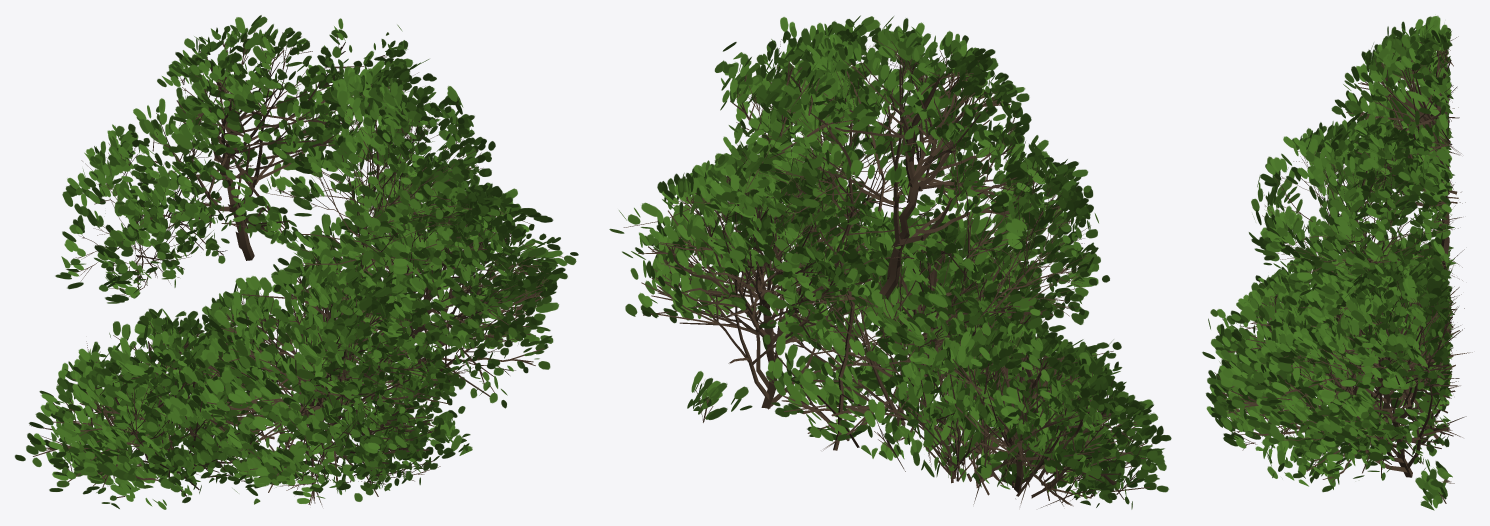
The picture shows the model from 3 angles, left to right: view 1: azimuth 30°, elevation 25°; view 2: azimuth 150°, elevation 25°; view 3: azimuth 270°, elevation 25°; orthographic projection. The views are drawn at different scales.
Parts seen in each view (by area): view 1: oak 01.001_trunk_Mat.001_0.248; view 2: oak 01.001_trunk_Mat.001_0.248; view 3: oak 01.001_trunk_Mat.001_0.248.
Part boxes in pixels (box(x1,y1,x2,y2)): oak 01.001_trunk_Mat.001_0.248: box(14, 15, 578, 509); oak 01.001_trunk_Mat.001_0.248: box(609, 15, 1171, 509); oak 01.001_trunk_Mat.001_0.248: box(1202, 15, 1472, 510).
Bounding box in the file's own units: 6.28 × 5.1 × 3.13.
2 materials, 1 textured.
